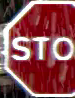Stop: (6, 1, 74, 97)
